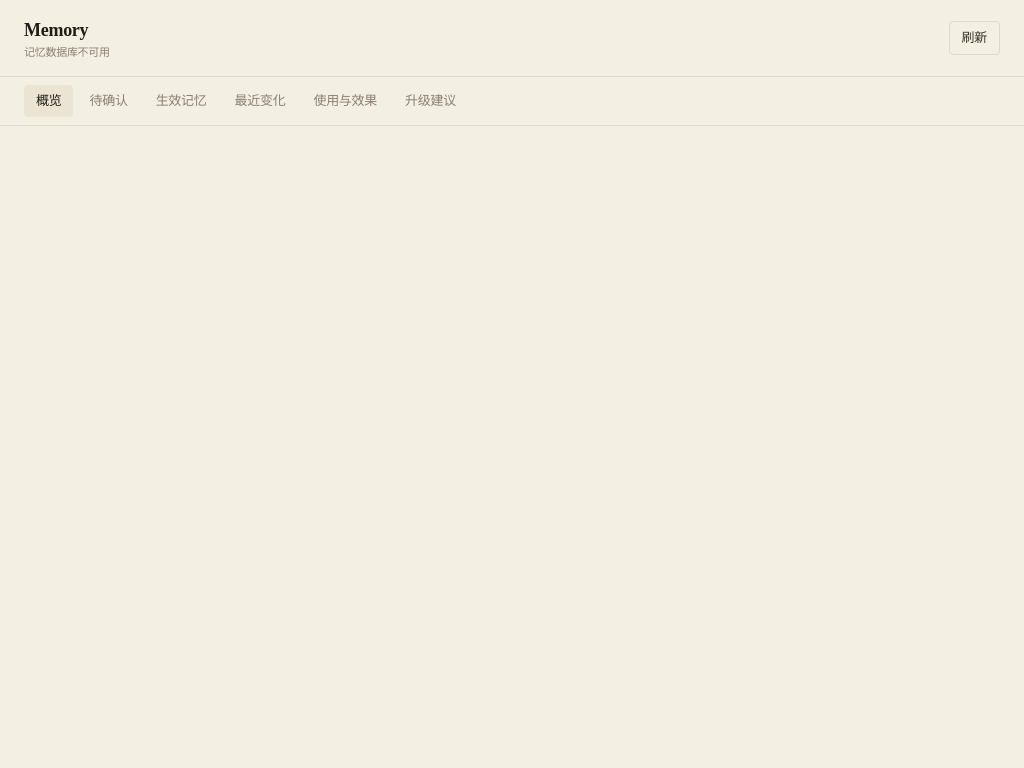
Scenario: MemoryPage › surfaces the nightly review and its suggestions without claiming they are done
Click the button "升级建议". click: x=430, y=101
box: [393, 85, 468, 117]
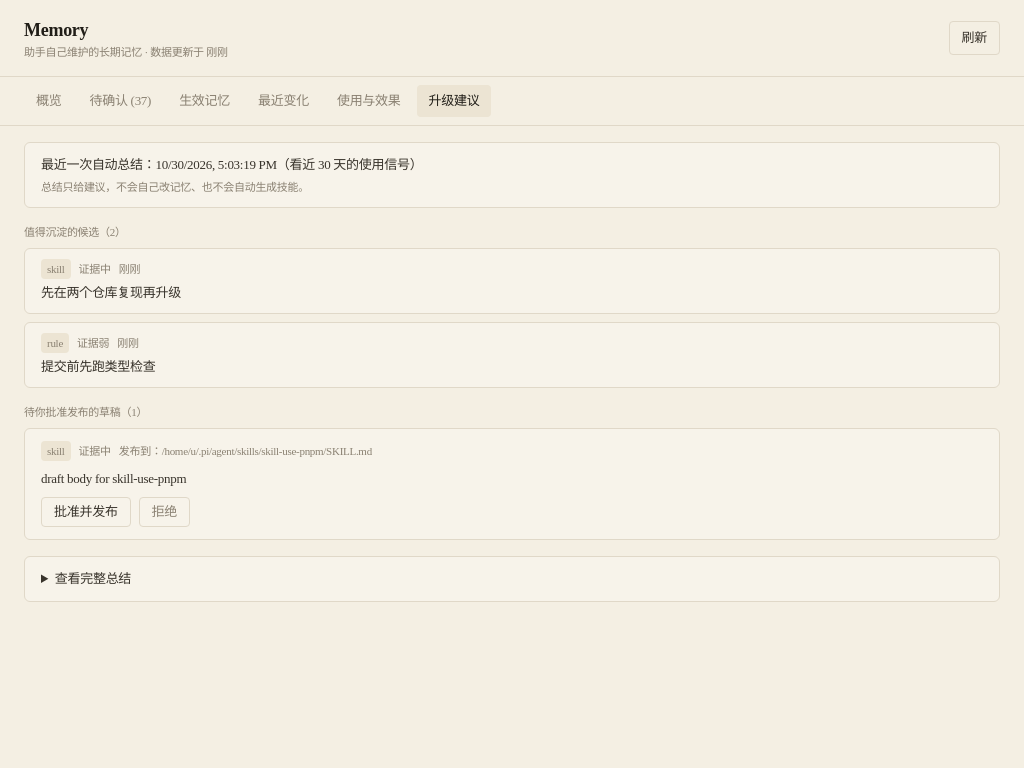
expect the text "最近一次自动总结" is shown: met, box [41, 157, 422, 172]
expect the text "先在两个仓库复现再升级" is shown: met, box [41, 285, 181, 300]
expect the text "证据中" below "值得沉淀的候选（" is shown: met, box [79, 261, 111, 277]
